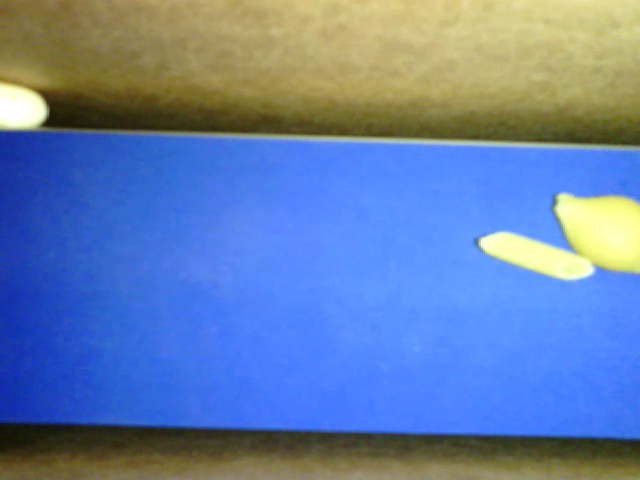penne: (478, 231, 594, 281)
shell: (553, 191, 639, 273)
